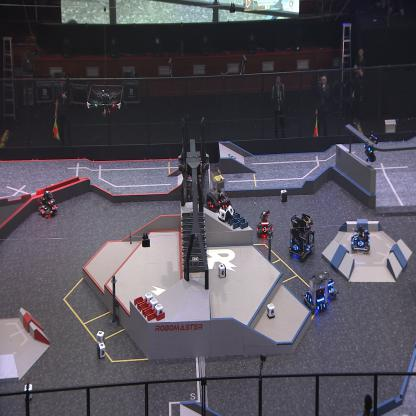car: (288, 213, 315, 262), (205, 172, 232, 217), (302, 272, 329, 314), (350, 223, 370, 254), (321, 270, 338, 305), (38, 187, 57, 217), (256, 209, 274, 239)
